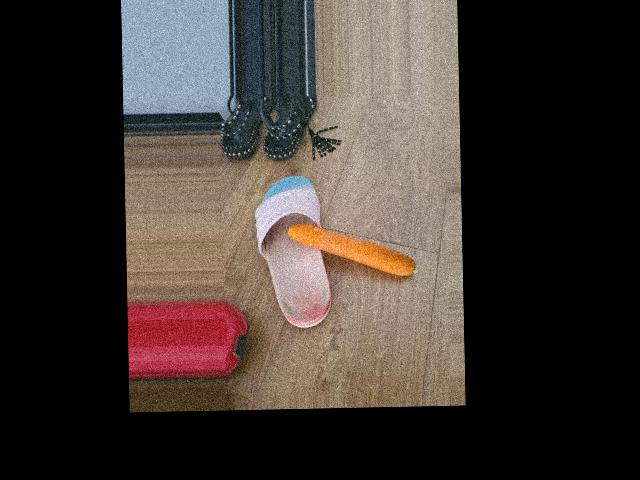carrot: (285, 222, 415, 279)
